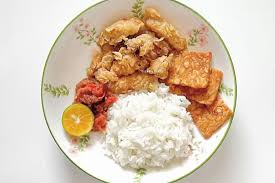Nasi putih: (109, 93, 190, 169)
Tempe goreng: (169, 46, 209, 90), (188, 99, 233, 137)
